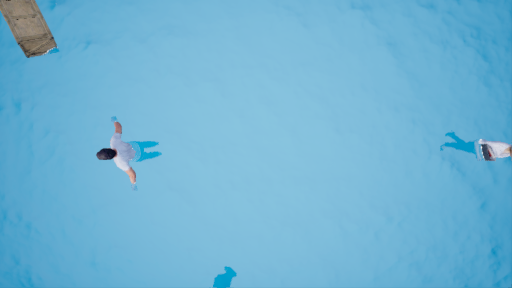person: (89, 114, 162, 185), (444, 132, 512, 170)
